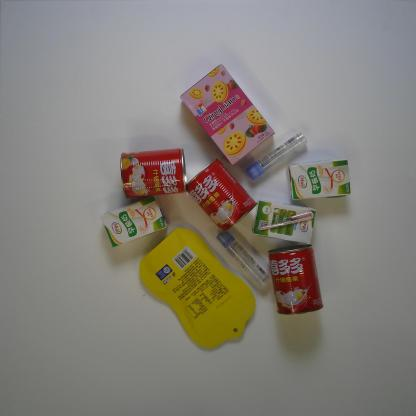Canned Food: (185, 158, 258, 232), (267, 244, 324, 316), (120, 148, 188, 199)
Dessert: (179, 63, 276, 166)
Dried Fruit: (138, 227, 256, 349)
Milk: (100, 195, 168, 248), (251, 199, 317, 245), (287, 158, 352, 202)
Stationery: (216, 230, 272, 290), (245, 132, 308, 181)
